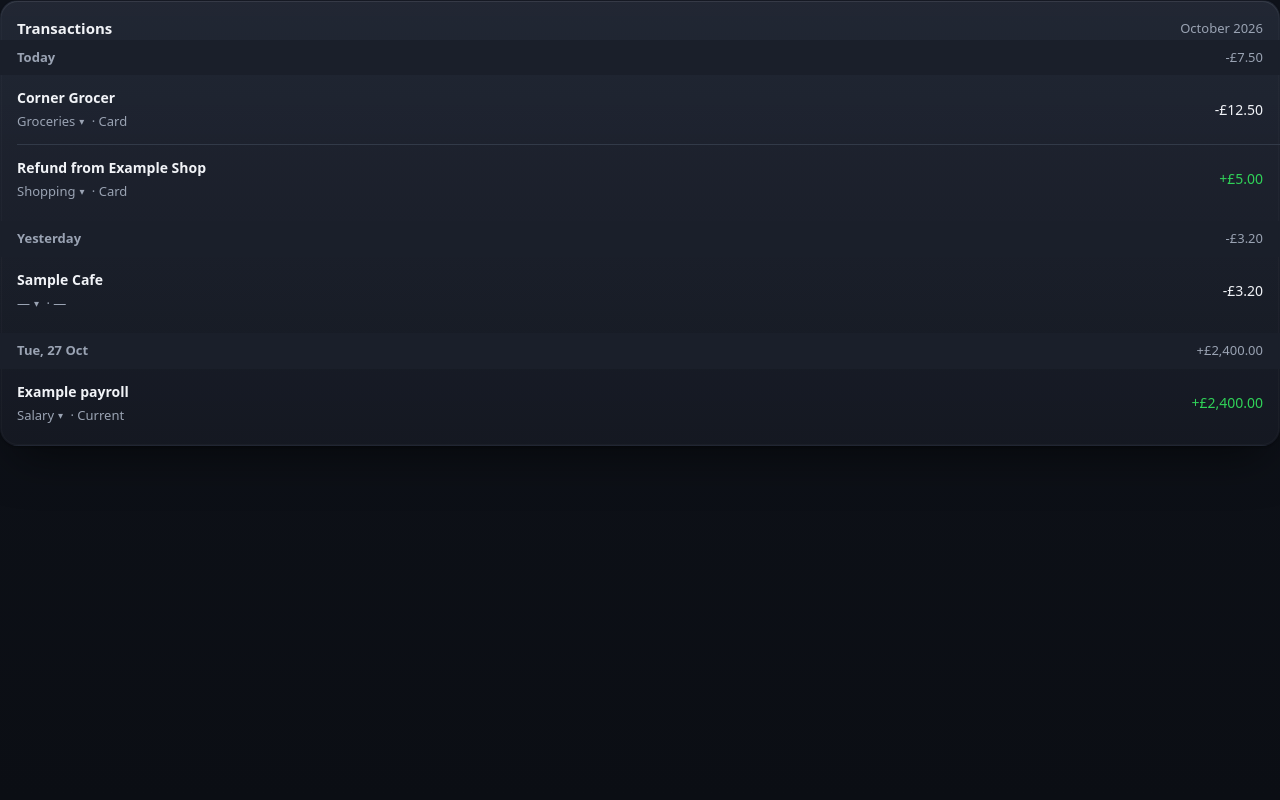
Test: changing a category › confirms the change in a toast whose Undo sets the old category back
Click the button "Groceries ▾" at (51, 122), box [13,108,88,136]
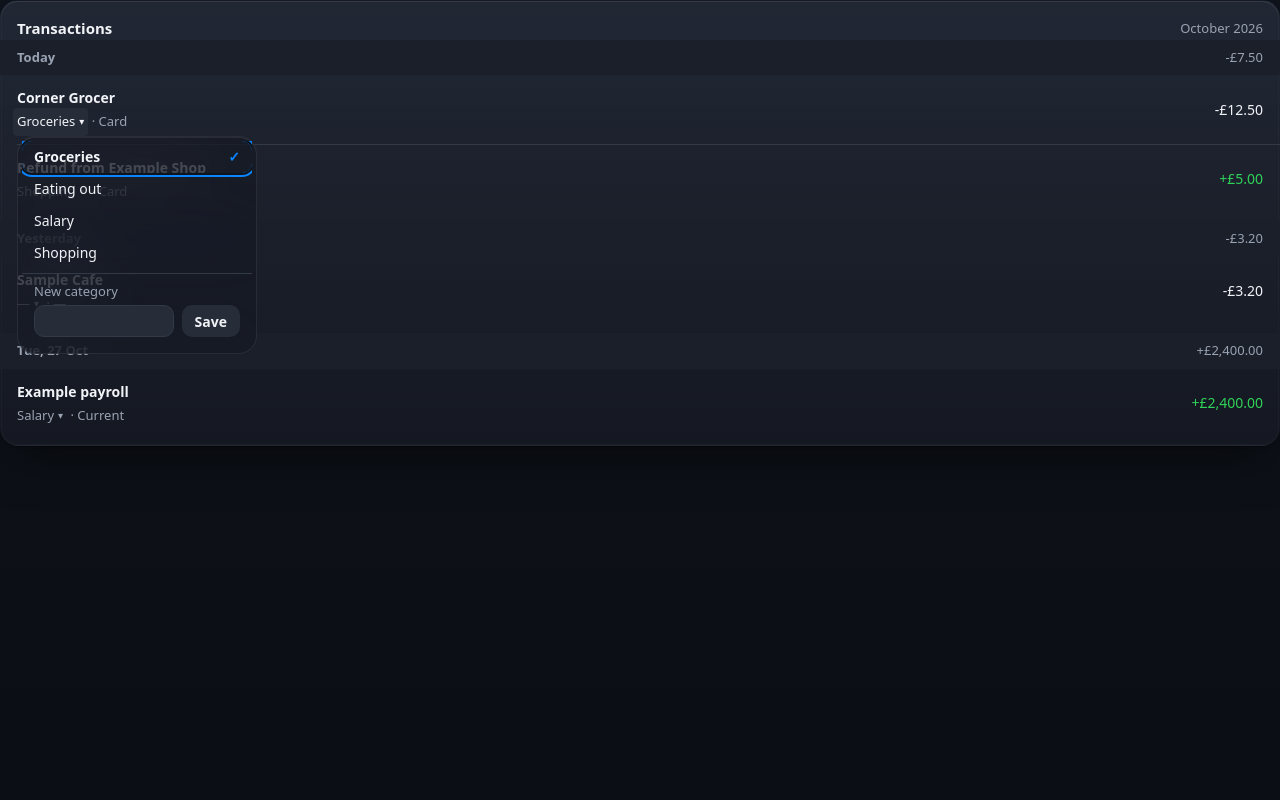
Click the button "Eating out" at (137, 188), box [22,172,252,204]
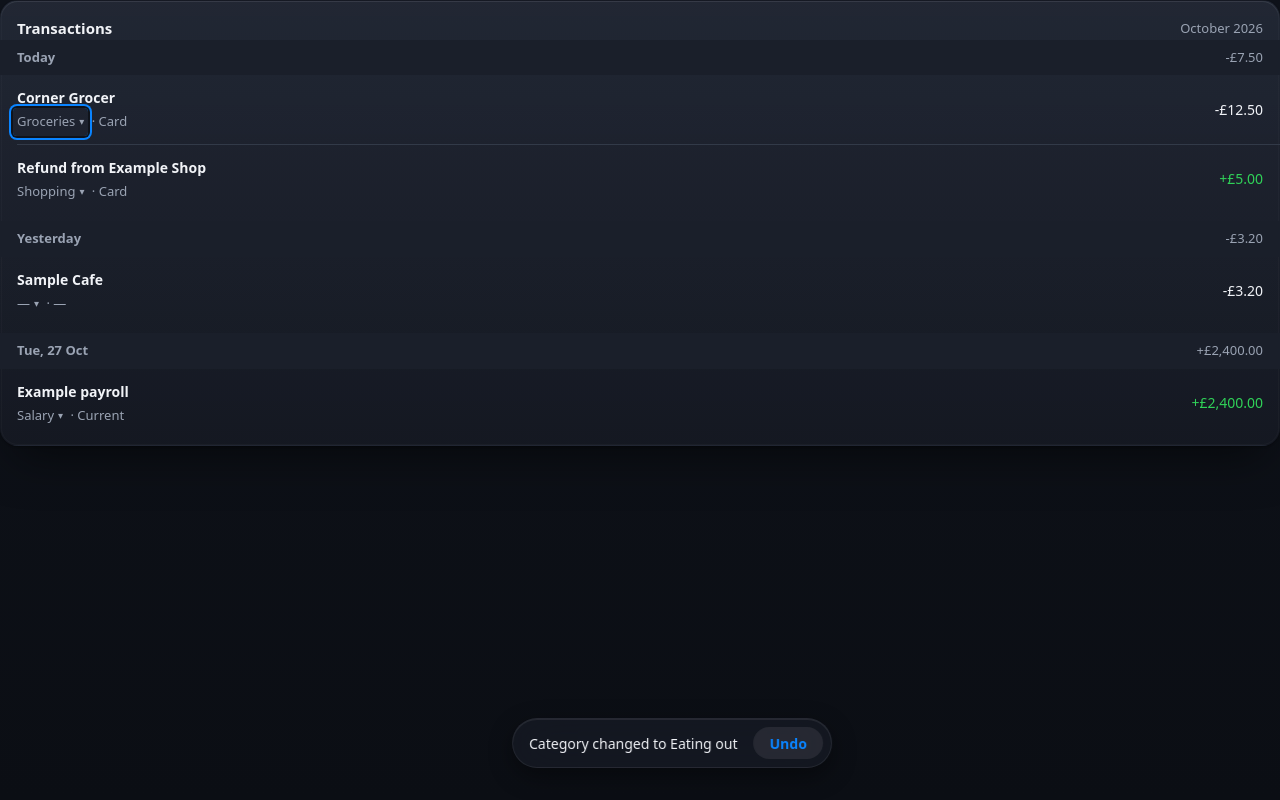
Expected: the message shows "Category changed to Eating out", [529,734,738,752]
Click the button "Undo" at (788, 743), box [754,727,823,759]
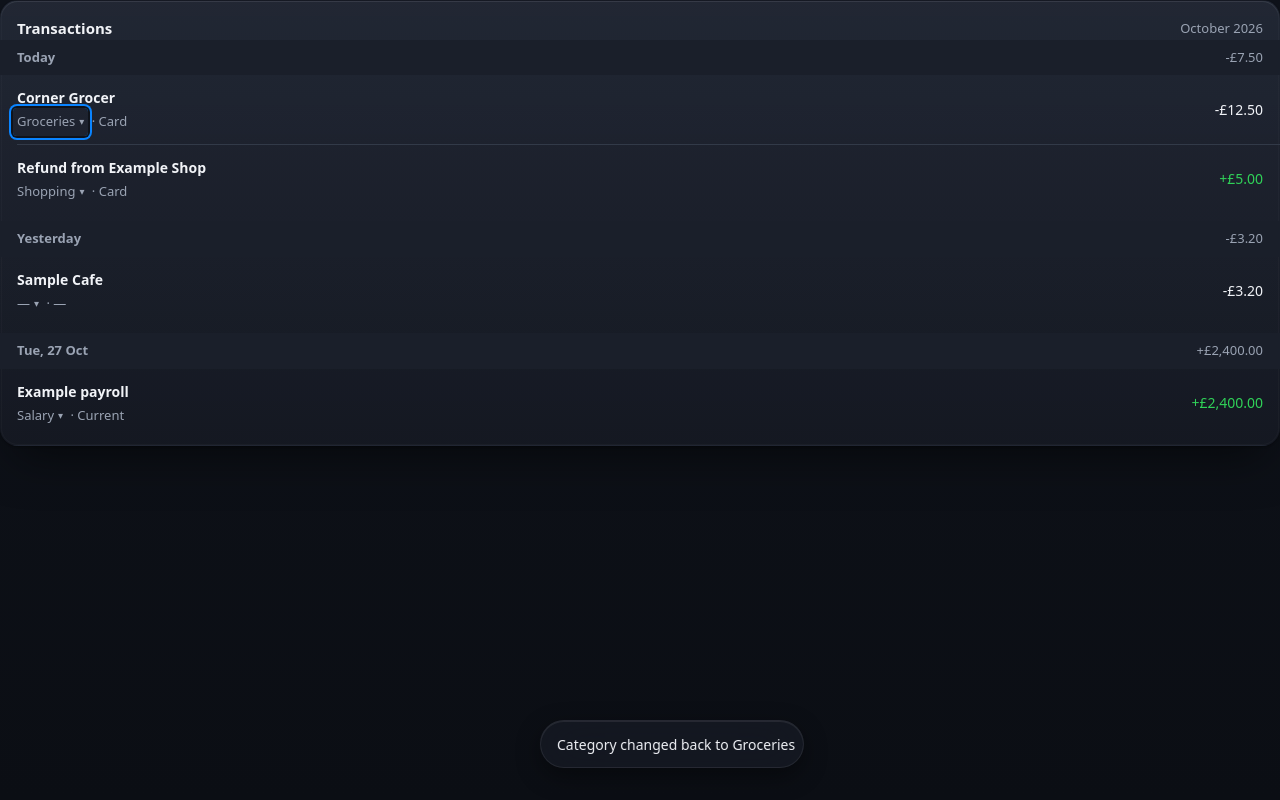
Expected: the message reads "Category changed back to Groceries", [557,734,795,754]
